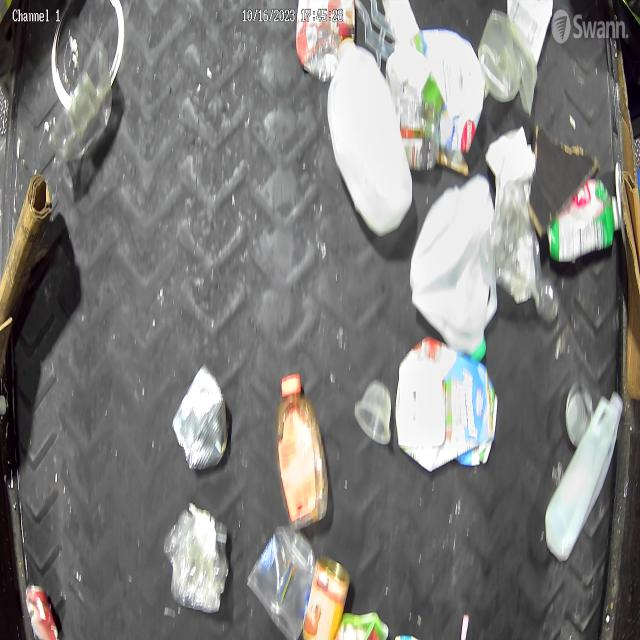can: (171, 353, 237, 477), (305, 548, 348, 640)
milk_jug: (325, 37, 416, 243), (415, 171, 504, 361), (544, 387, 623, 556)
non_white_jug: (279, 369, 333, 544)
